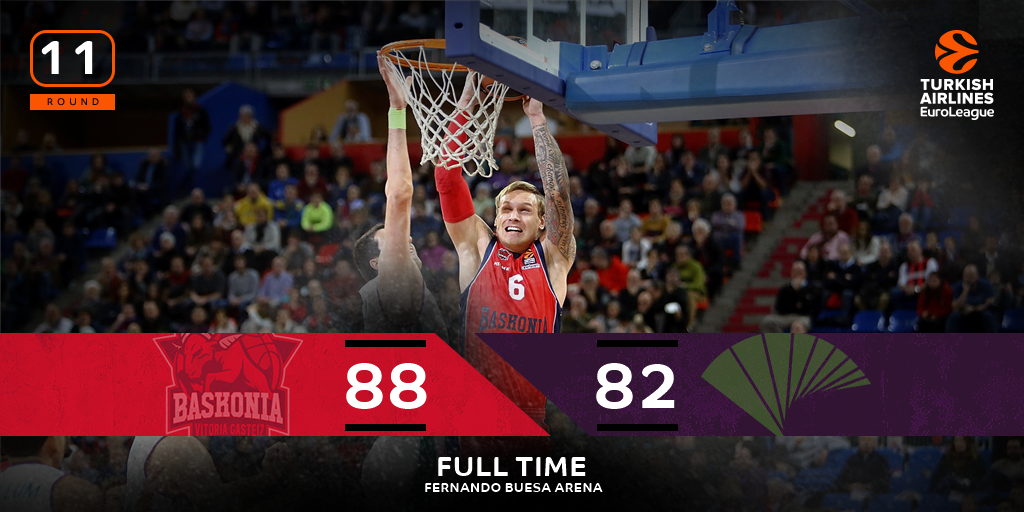basket: (371, 41, 513, 174)
player: (445, 102, 602, 338), (348, 59, 444, 336)
